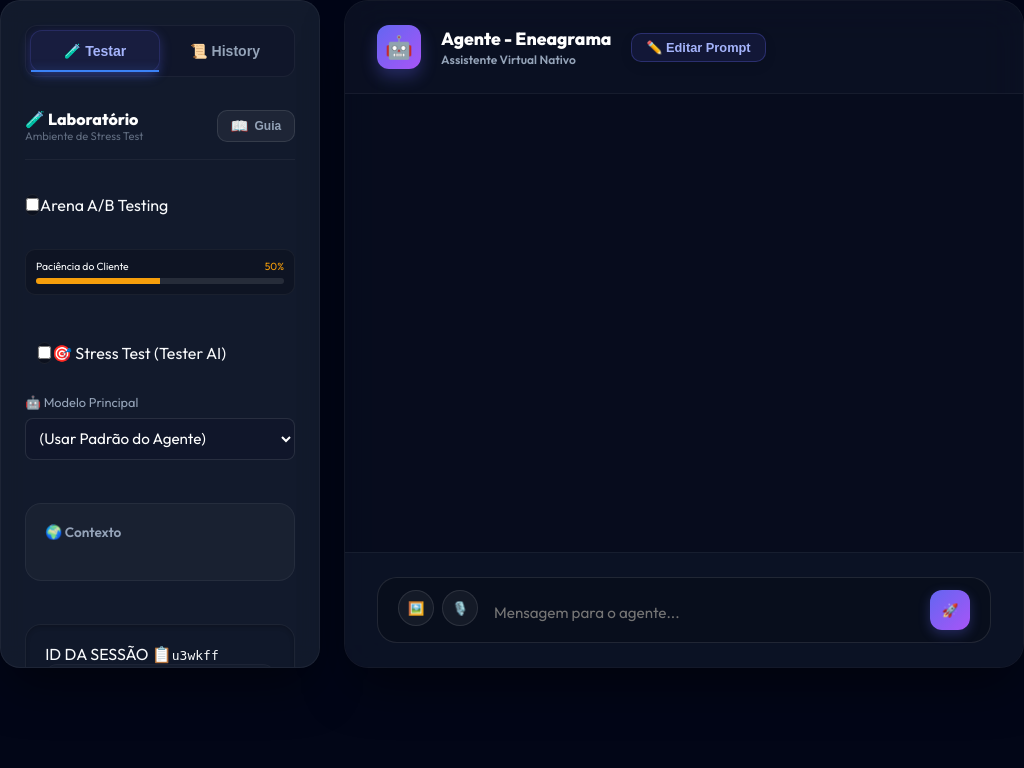
Test: ChatPlayground Component › should show Raio-X button on text bubble when response ends with a link
The width and height of the screenshot is (1024, 768).
Type "Qual o link do grupo?" into the text box with placeholder "Mensagem para o agente..." at (704, 612), box [494,595,914,630]
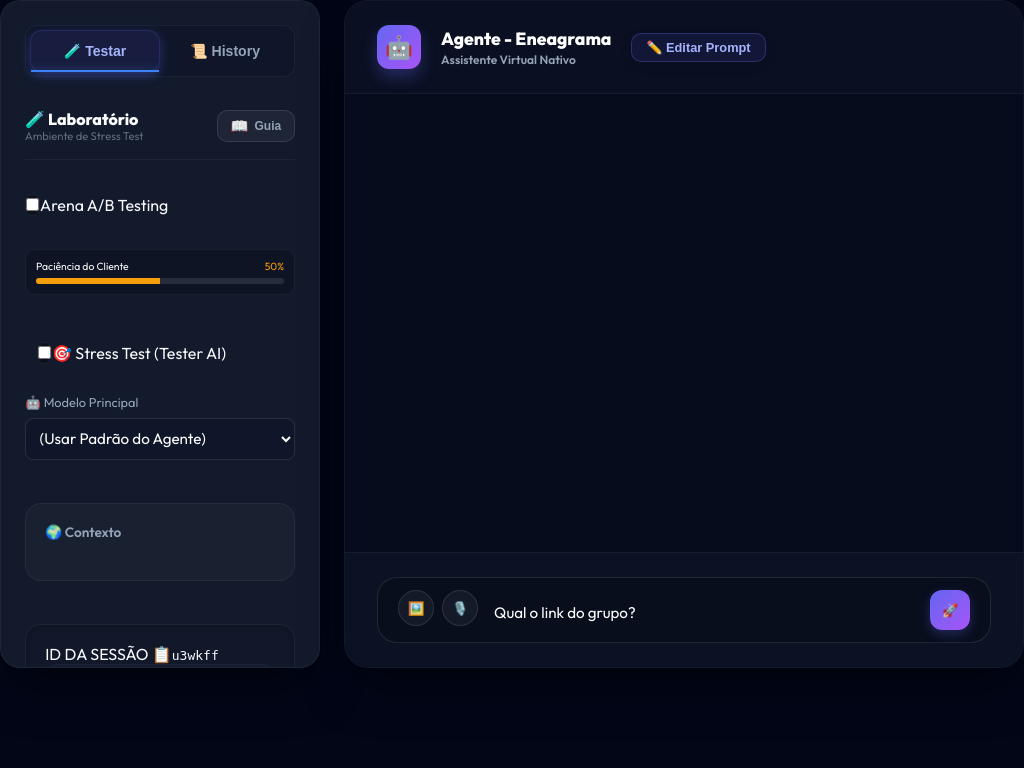
Click the submit button at (950, 610), box [930,590,970,630]
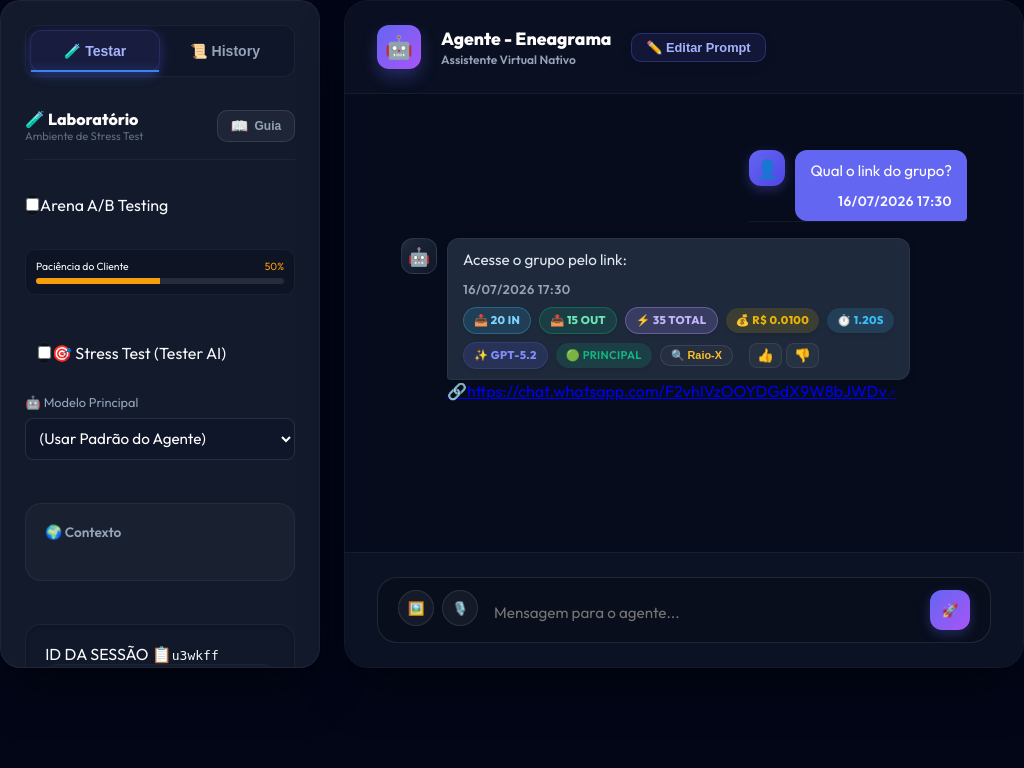
Result: the text "Acesse o grupo pelo link:" is shown at [463,250,627,269]
Result: the button "🔍 Raio-X" is shown at [660,345,733,366]
